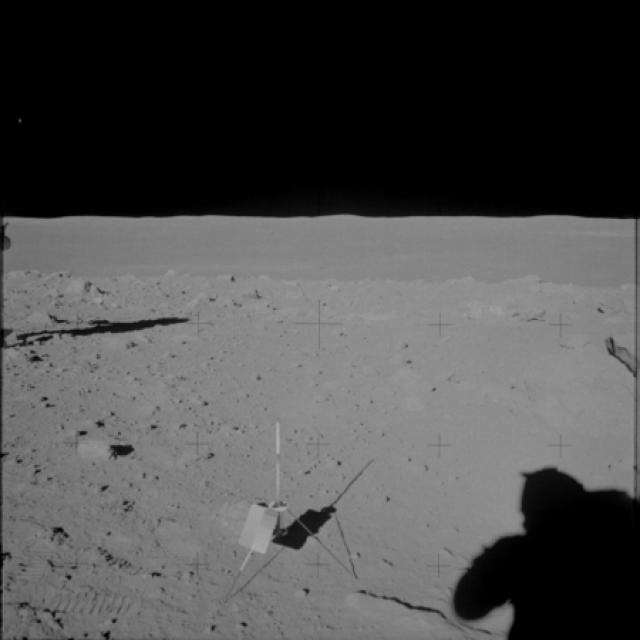rock: (58, 270, 100, 297), (381, 388, 427, 412), (79, 437, 120, 463), (382, 368, 433, 386), (26, 307, 60, 329), (184, 290, 219, 310), (242, 280, 268, 304)
